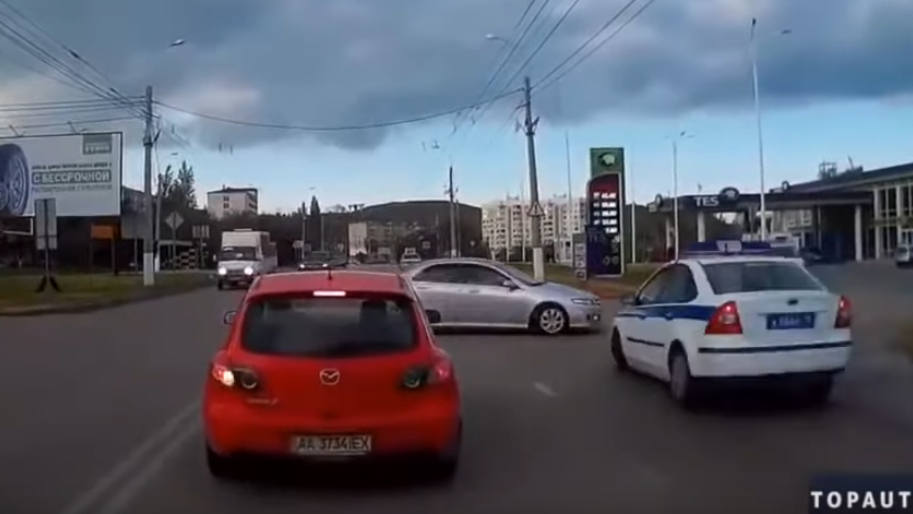non emergency car: (205, 268, 464, 482), (409, 256, 595, 333), (215, 227, 278, 289)
police car: (610, 239, 853, 411)
